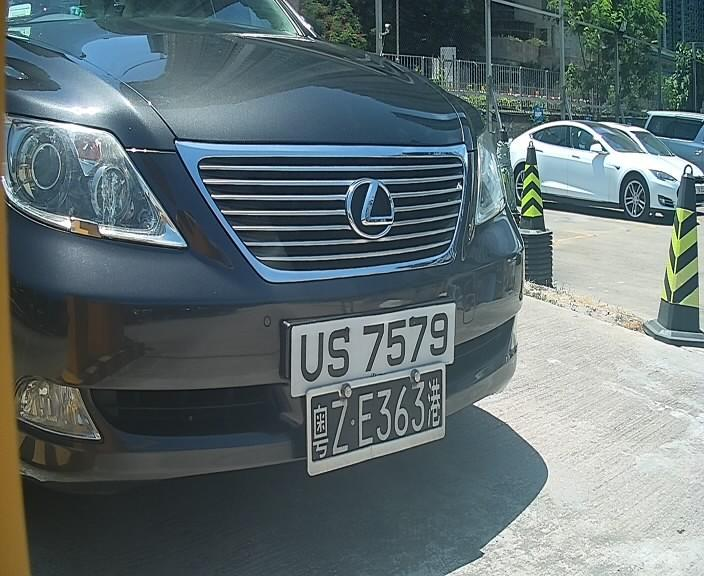privatecar: (2, 3, 522, 499)
